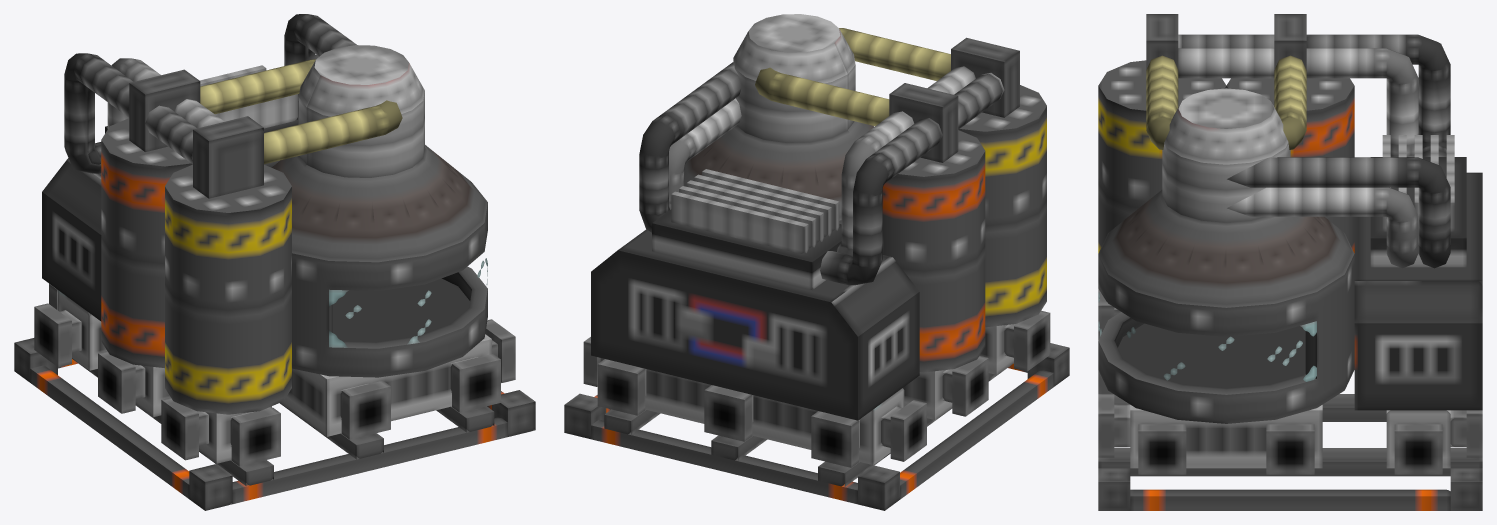
Rendered from chemical_plant_base.obj.
3 views of the same model, side by side, from view 1: azimuth 30°, elevation 25°; view 2: azimuth 150°, elevation 25°; view 3: azimuth 270°, elevation 25° (orthographic). The views are drawn at different scales.
Visible parts, largest first — view 1: Base; view 2: Base; view 3: Base.
Part boxes in pixels (x1=…): Base: x1=14, y1=14, x2=535, y2=510; Base: x1=564, y1=14, x2=1069, y2=510; Base: x1=1098, y1=14, x2=1482, y2=510.
Size of the model in its own units: 3 by 3 by 3.
